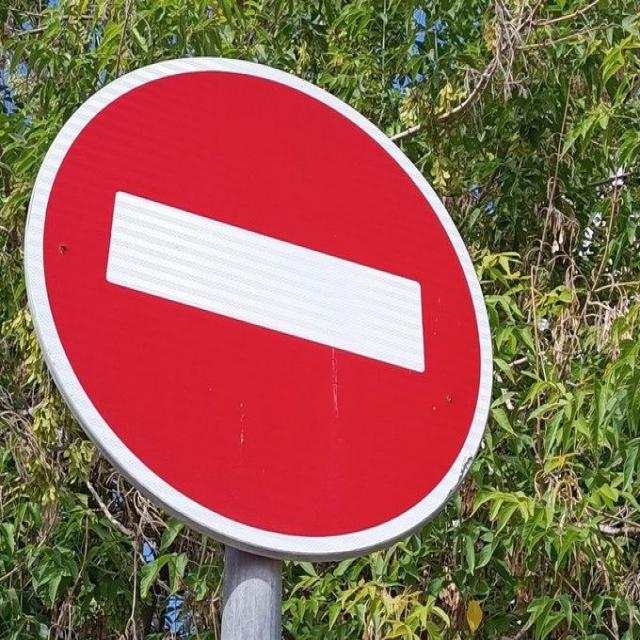no entry: (22, 46, 500, 566)
